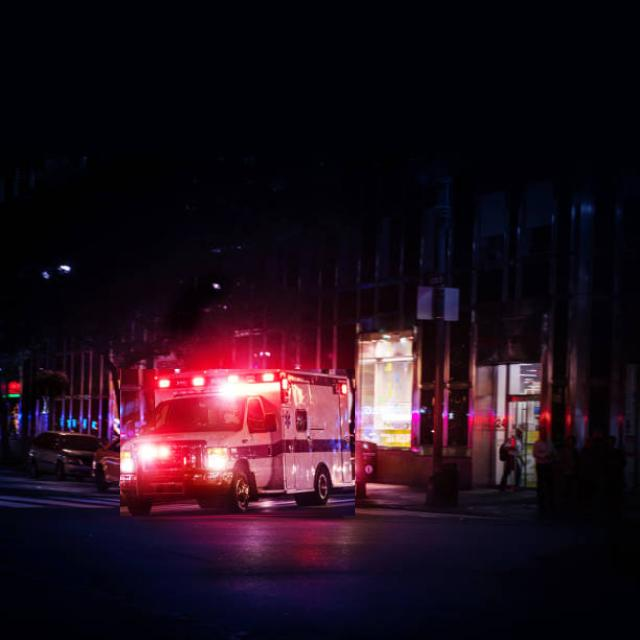emergency: (120, 370, 355, 516)
